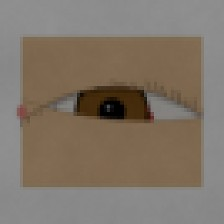hemorrhage_spot: (71, 79, 167, 155)
